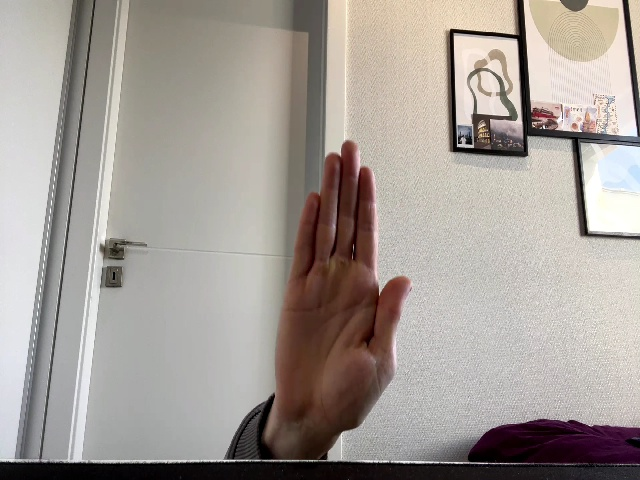B: (275, 141, 413, 431)
